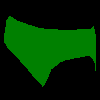mutande: (4, 15, 96, 88)
